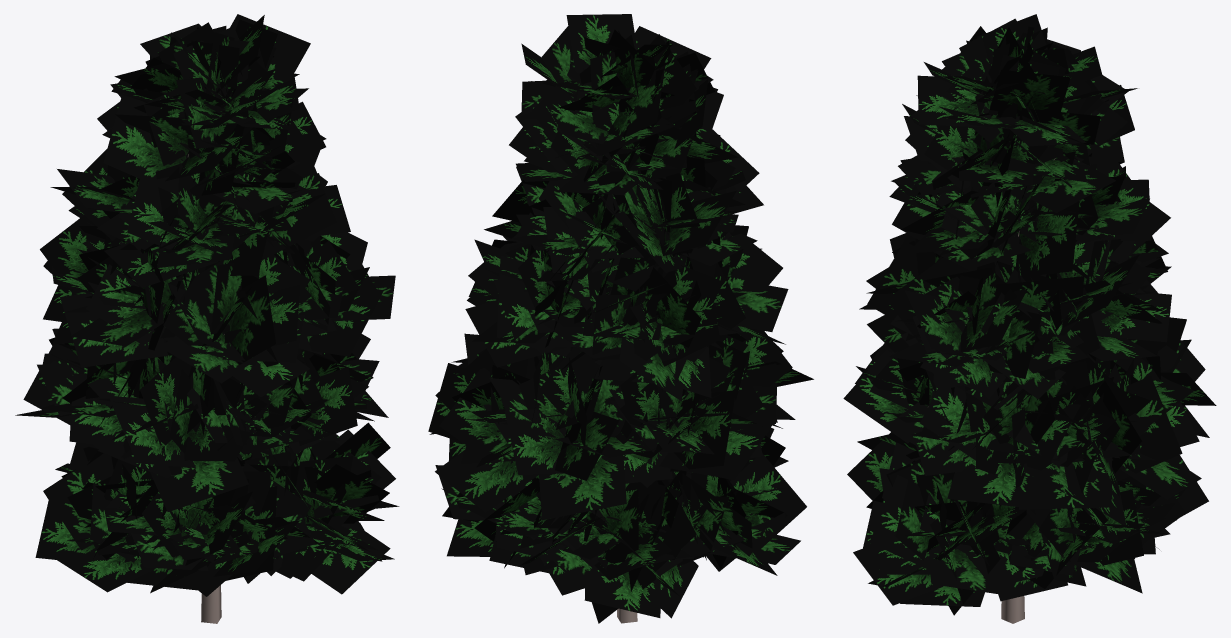
The model's file is treetest.glb.
3 views of the same model, side by side, from view 1: azimuth 30°, elevation 25°; view 2: azimuth 150°, elevation 25°; view 3: azimuth 270°, elevation 25° (orthographic).
Visible parts, largest first — view 1: leaves, tree; view 2: leaves; view 3: leaves, tree.
Boxes of the visible parts, x1=… form: leaves: x1=15, y1=14, x2=399, y2=596; tree: x1=188, y1=154, x2=224, y2=623; leaves: x1=428, y1=14, x2=813, y2=623; leaves: x1=843, y1=14, x2=1216, y2=615; tree: x1=928, y1=158, x2=1055, y2=623.
Bounding box in the file's own units: 2.13 × 3.69 × 2.1.
Materials: 2 (1 with a texture image).
